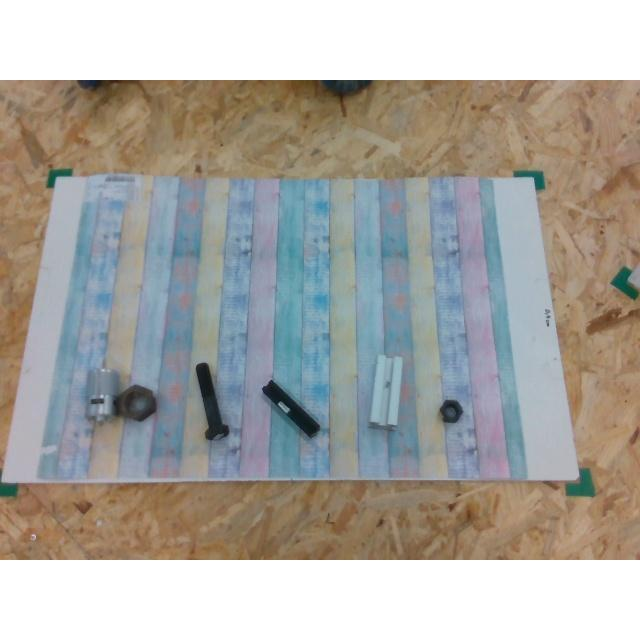F20_20_B: (262, 380, 318, 436)
M20: (439, 399, 463, 421)
M20_100: (196, 362, 228, 438)
M30: (116, 384, 156, 420)
Motor2: (86, 356, 118, 424)
S40_40_G: (368, 356, 404, 432)
